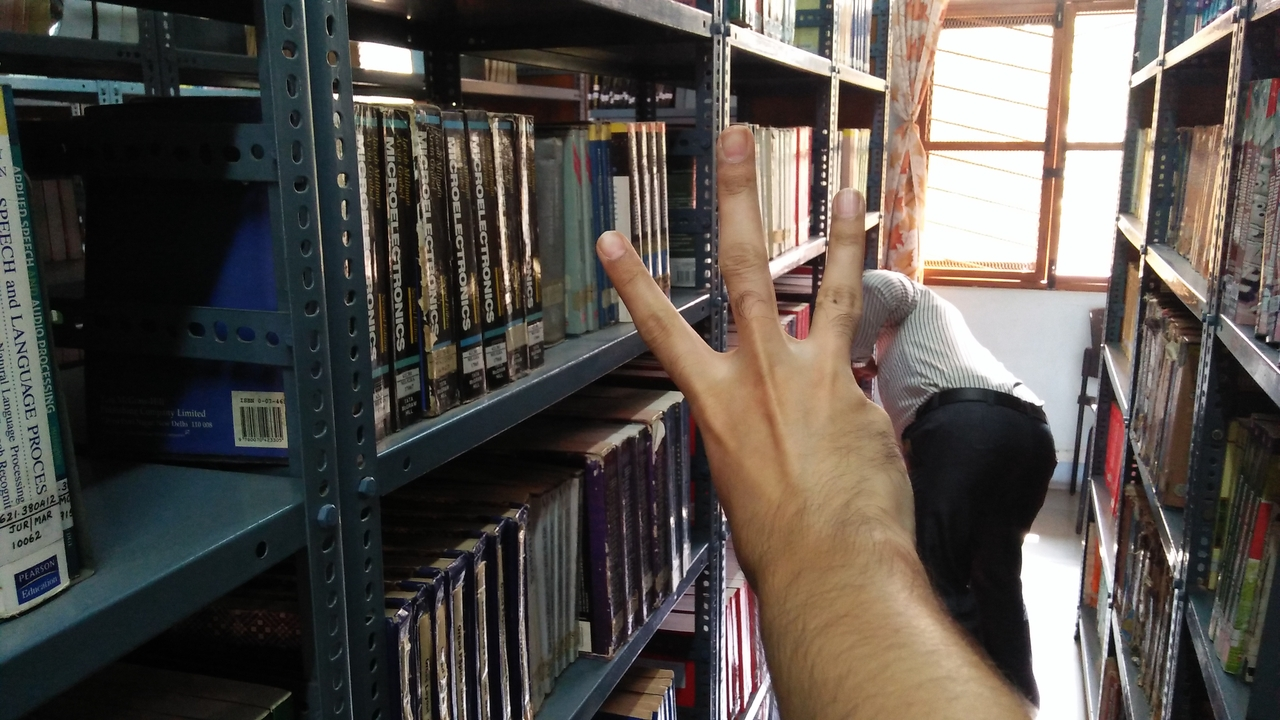fingertip: (710, 120, 764, 176), (586, 220, 640, 272), (834, 178, 874, 224)
